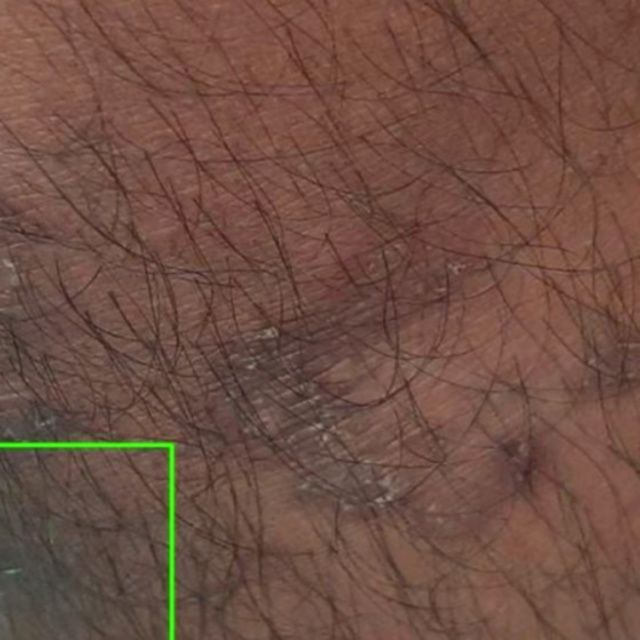Tinea Corporis: (0, 444, 171, 639)
